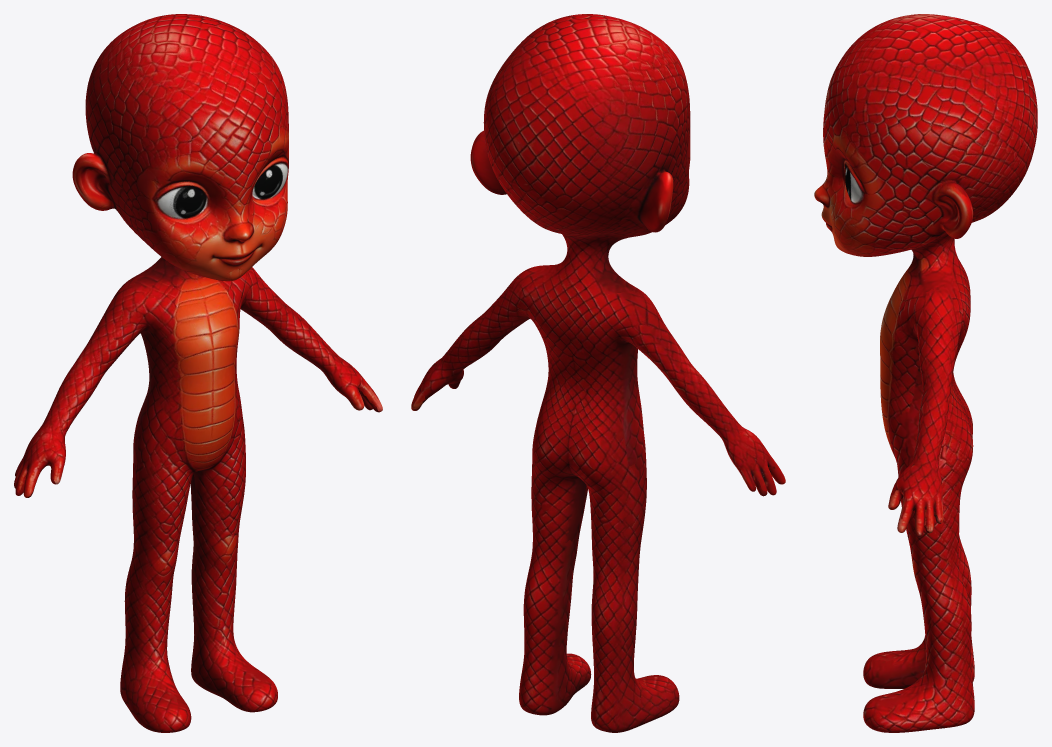
File: skin-dragon-comprimida-sJEC77G1.glb
3 renders of one model, left to right at view 1: azimuth 30°, elevation 25°; view 2: azimuth 150°, elevation 25°; view 3: azimuth 270°, elevation 25°, orthographic.
Parts seen in each view (by area): view 1: char1; view 2: char1; view 3: char1.
Boxes of the visible parts, <box> form: char1: <box>14,14,382,732</box>; char1: <box>411,14,785,732</box>; char1: <box>814,14,1037,732</box>.
Size of the model in its own units: 0.5556 by 1 by 0.2984.
Materials: 1 (1 with a texture image).
